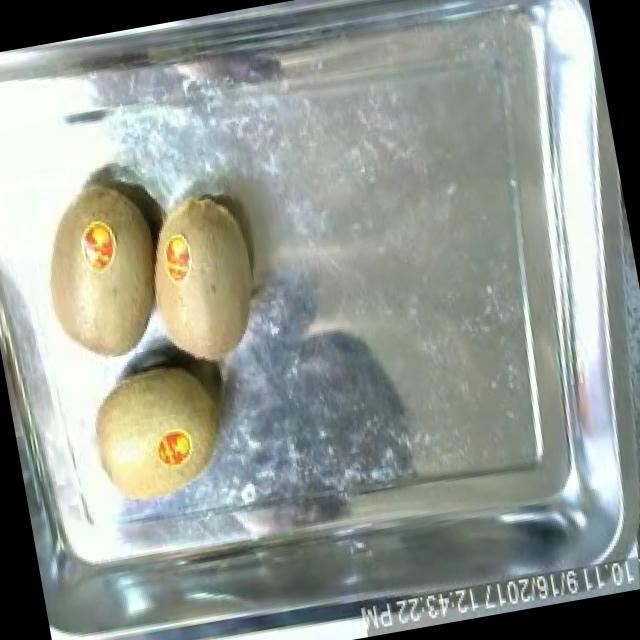Fruit: (14, 166, 182, 380), (130, 179, 280, 378), (72, 349, 238, 516)
